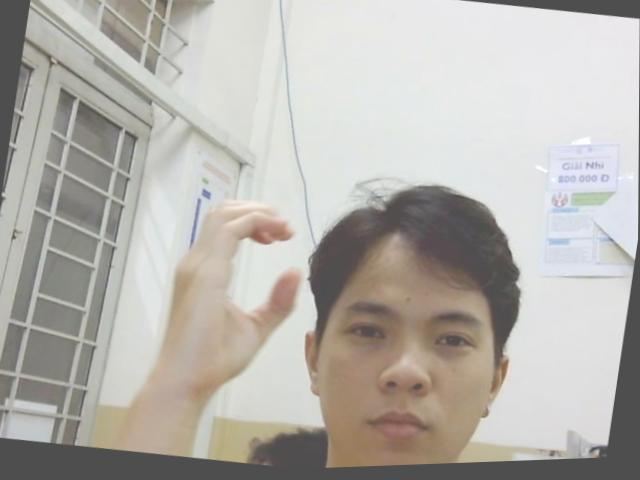C: (155, 190, 312, 403)
